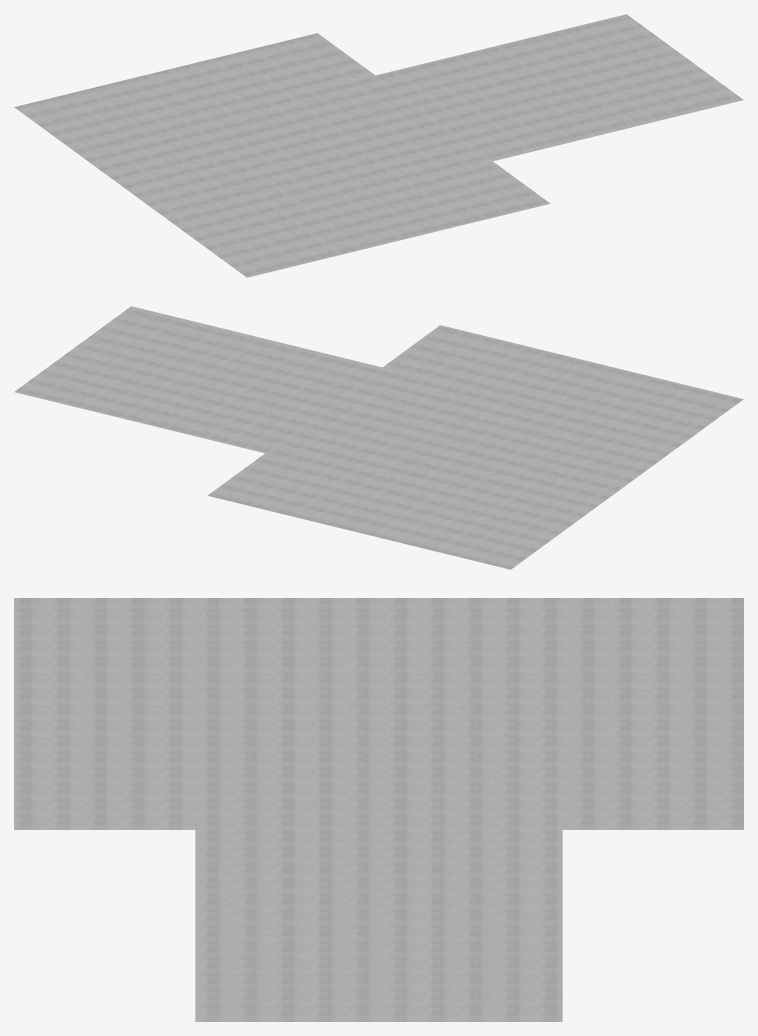
Rendered from 1f地板_02.glb.
3 views of the same model, one above another, from view 1: azimuth 30°, elevation 25°; view 2: azimuth 150°, elevation 25°; view 3: azimuth 270°, elevation 25° (orthographic). The views are drawn at different scales.
Visible parts, largest first — view 1: 1f地板_02; view 2: 1f地板_02; view 3: 1f地板_02.
Boxes of the visible parts, left/top/right/bottom form: 1f地板_02: left=14, top=14, right=743, bottom=277; 1f地板_02: left=14, top=306, right=743, bottom=569; 1f地板_02: left=14, top=598, right=743, bottom=1021.
Bounding box in the file's own units: 5351 × 0.00131 × 3894.
1 material, 1 textured.
